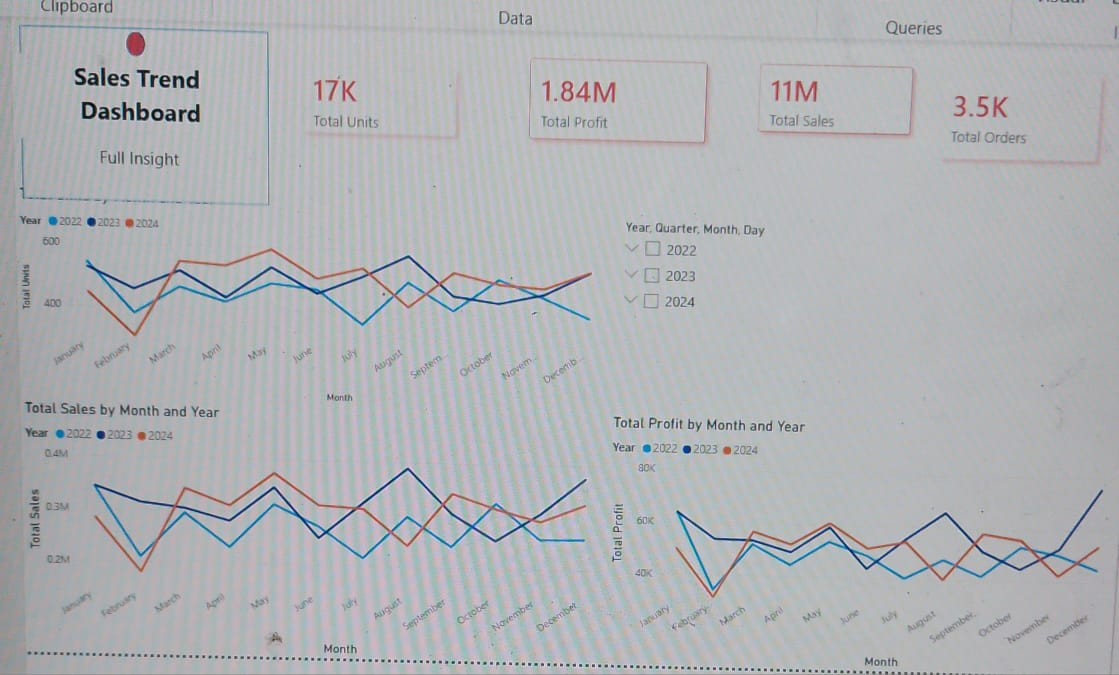

Layout of this report page (visuals, bound fields, positions):
{"tool":"powerbi","page":{"name":"Page 2","canvas":[1280,720],"ordinal":1},"visuals":[{"type":"lineChart","fields":{"Category":["ecommerce_sales_data1.Order Date.Variation.Date Hierarchy.Month"],"Y":["Sum(ecommerce_sales_data1.Sales)"],"Series":["ecommerce_sales_data1.Order Date.Variation.Date Hierarchy.Year"]},"box":[0,423.3,680.3,296.7],"z":0},{"type":"lineChart","fields":{"Category":["ecommerce_sales_data1.Order Date.Variation.Date Hierarchy.Month"],"Y":["Sum(ecommerce_sales_data1.Profit)"],"Series":["ecommerce_sales_data1.Order Date.Variation.Date Hierarchy.Year"]},"box":[680.3,423.3,599.1,296.7],"z":1000},{"type":"lineChart","fields":{"Category":["ecommerce_sales_data1.Order Date.Variation.Date Hierarchy.Month","ecommerce_sales_data1.Order Date.Variation.Date Hierarchy.Year"],"Y":["Sum(ecommerce_sales_data1.Quantity)"],"Series":["ecommerce_sales_data1.Order Date.Variation.Date Hierarchy.Year"]},"box":[0,183.3,680.3,240],"z":2000},{"type":"slicer","fields":{"Values":["ecommerce_sales_data1.Order Date.Variation.Date Hierarchy.Year","ecommerce_sales_data1.Order Date.Variation.Date Hierarchy.Quarter","ecommerce_sales_data1.Order Date.Variation.Date Hierarchy.Month","ecommerce_sales_data1.Order Date.Variation.Date Hierarchy.Day"]},"box":[679.9,199.2,599.5,208.8],"z":3000},{"type":"textbox","box":[0,0,103.9,105.8],"z":4000},{"type":"cardVisual","fields":{"Data":["Sum(ecommerce_sales_data1.Sales)"]},"box":[810.1,0,231.7,132.2],"z":5000},{"type":"cardVisual","fields":{"Data":["Sum(ecommerce_sales_data1.Profit)"]},"box":[552,0,258,146],"z":6000},{"type":"cardVisual","fields":{"Data":["CountNonNull(ecommerce_sales_data1.Sales)"]},"box":[1017,1.9,237.5,155.1],"z":7000},{"type":"cardVisual","fields":{"Data":["Sum(ecommerce_sales_data1.Quantity)"]},"box":[294.8,13.2,232.4,132.3],"z":8000},{"type":"shape","box":[10,10,277.8,189],"z":9000},{"type":"textbox","box":[5.7,40.2,268.1,91.9],"z":10000},{"type":"textbox","box":[64.3,132.3,153.1,45.4],"z":11000},{"type":"shape","box":[128.3,13.4,21.1,26.8],"z":12000}]}

Visuals, with their boxes on the page's 1280x720 design canvas (x1, y1, x2, y2). These are canvas units, not pixel positions in the 1119x675 screenshot, which may show the page scaled, cropped or inside an application window:
lineChart - ecommerce_sales_data1.Order Date.Variation.Date Hierarchy.Month x Sum(ecommerce_sales_data1.Sales): [x1=0, y1=423, x2=680, y2=720]
lineChart - ecommerce_sales_data1.Order Date.Variation.Date Hierarchy.Month x Sum(ecommerce_sales_data1.Profit): [x1=680, y1=423, x2=1279, y2=720]
lineChart - ecommerce_sales_data1.Order Date.Variation.Date Hierarchy.Month x ecommerce_sales_data1.Order Date.Variation.Date Hierarchy.Year: [x1=0, y1=183, x2=680, y2=423]
slicer - ecommerce_sales_data1.Order Date.Variation.Date Hierarchy.Year x ecommerce_sales_data1.Order Date.Variation.Date Hierarchy.Quarter: [x1=680, y1=199, x2=1279, y2=408]
textbox: [x1=0, y1=0, x2=104, y2=106]
cardVisual - Sum(ecommerce_sales_data1.Sales): [x1=810, y1=0, x2=1042, y2=132]
cardVisual - Sum(ecommerce_sales_data1.Profit): [x1=552, y1=0, x2=810, y2=146]
cardVisual - CountNonNull(ecommerce_sales_data1.Sales): [x1=1017, y1=2, x2=1254, y2=157]
cardVisual - Sum(ecommerce_sales_data1.Quantity): [x1=295, y1=13, x2=527, y2=146]
shape: [x1=10, y1=10, x2=288, y2=199]
textbox: [x1=6, y1=40, x2=274, y2=132]
textbox: [x1=64, y1=132, x2=217, y2=178]
shape: [x1=128, y1=13, x2=149, y2=40]
